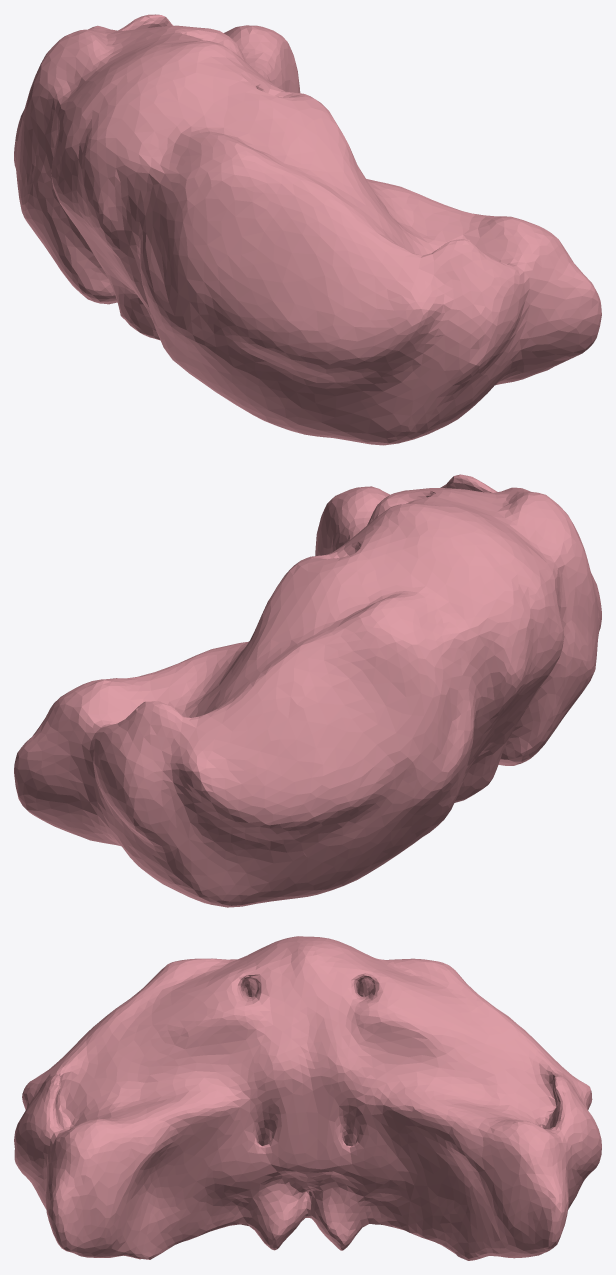
3 views of the same model, one above another, from view 1: azimuth 30°, elevation 25°; view 2: azimuth 150°, elevation 25°; view 3: azimuth 270°, elevation 25° (orthographic). The views are drawn at different scales.
Visible parts, largest first — view 1: 549.obj; view 2: 549.obj; view 3: 549.obj.
Boxes of the visible parts, x1=… form: 549.obj: x1=14, y1=14, x2=601, y2=445; 549.obj: x1=14, y1=474, x2=601, y2=907; 549.obj: x1=14, y1=936, x2=601, y2=1260.
Size of the model in its own units: 3511 by 2994 by 5869.
